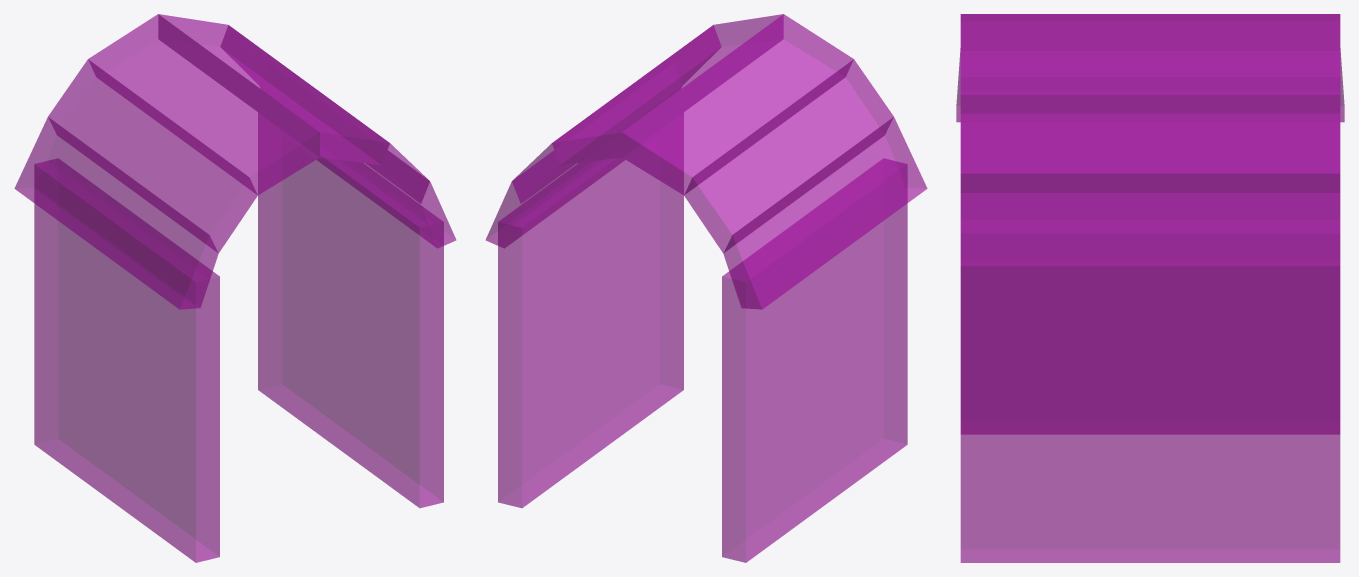
File: SM_Prop_Trellis_02_Collision.fbx
The picture shows the model from 3 angles, left to right: view 1: azimuth 30°, elevation 25°; view 2: azimuth 150°, elevation 25°; view 3: azimuth 270°, elevation 25°; orthographic projection. The views are drawn at different scales.
Visible parts, largest first — view 1: SM_Prop_Trellis_02_Collision; view 2: SM_Prop_Trellis_02_Collision; view 3: SM_Prop_Trellis_02_Collision.
Boxes of the visible parts, box(x1,y1,x2,y2) form: SM_Prop_Trellis_02_Collision: box(14, 14, 455, 562); SM_Prop_Trellis_02_Collision: box(486, 14, 927, 562); SM_Prop_Trellis_02_Collision: box(956, 14, 1344, 562).
Size of the model in its own units: 256 by 351 by 263.
